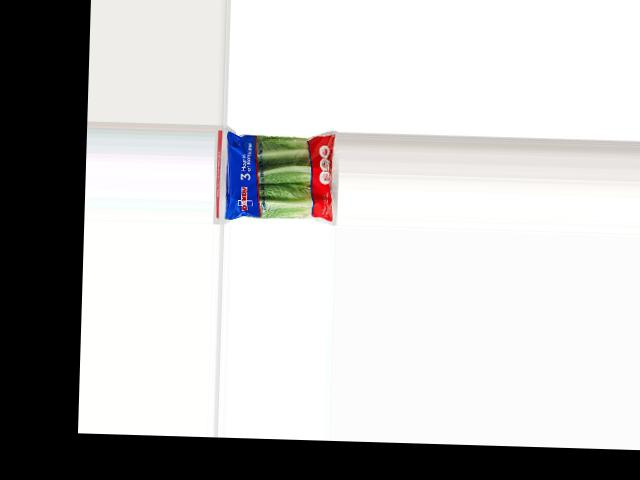lettuce: (222, 129, 339, 223)
